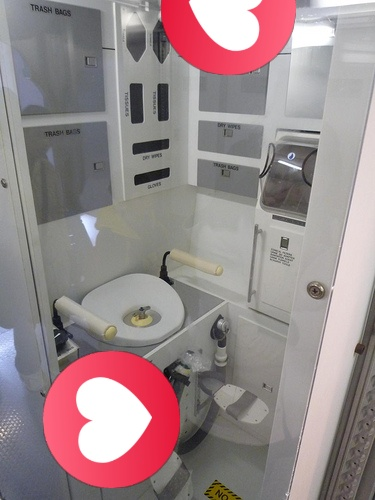love: (43, 351, 180, 488), (161, 0, 296, 75)
